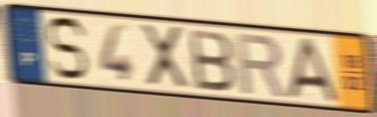4: (97, 20, 138, 85)
A: (285, 36, 340, 104)
B: (187, 27, 238, 94)
R: (233, 30, 288, 100)
S: (44, 15, 90, 83)
X: (137, 22, 192, 91)
